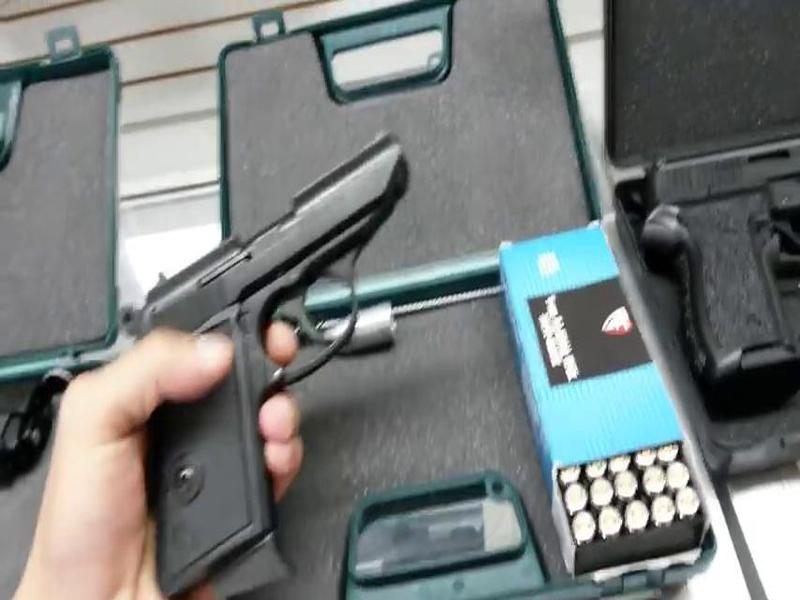Pistola: (97, 111, 432, 600)
